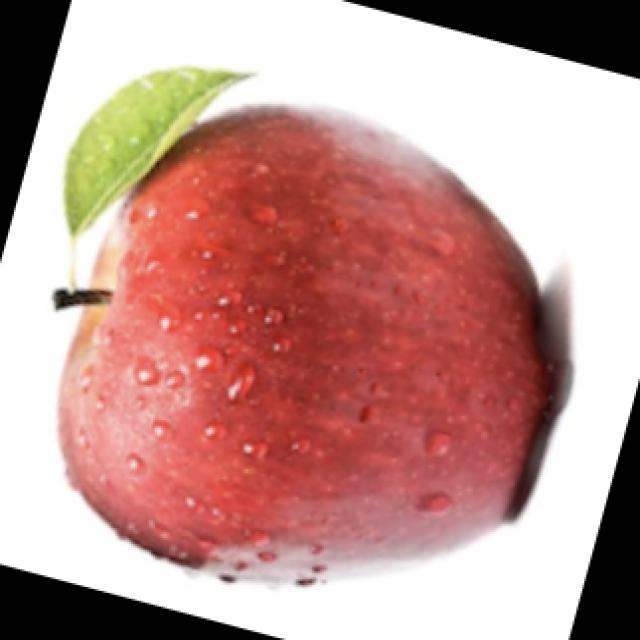Fresh Apple: (56, 110, 552, 617)
